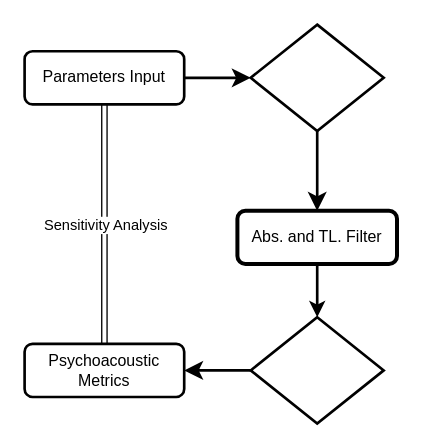
Image size: 422x447. Some labels were removed from this diagram. The shapes that lost their labels are listed below. From the top down, each one's centre as x and y in pixels, then its label:
point (316, 77): MPP Model
point (316, 369): Sound Synthesis
